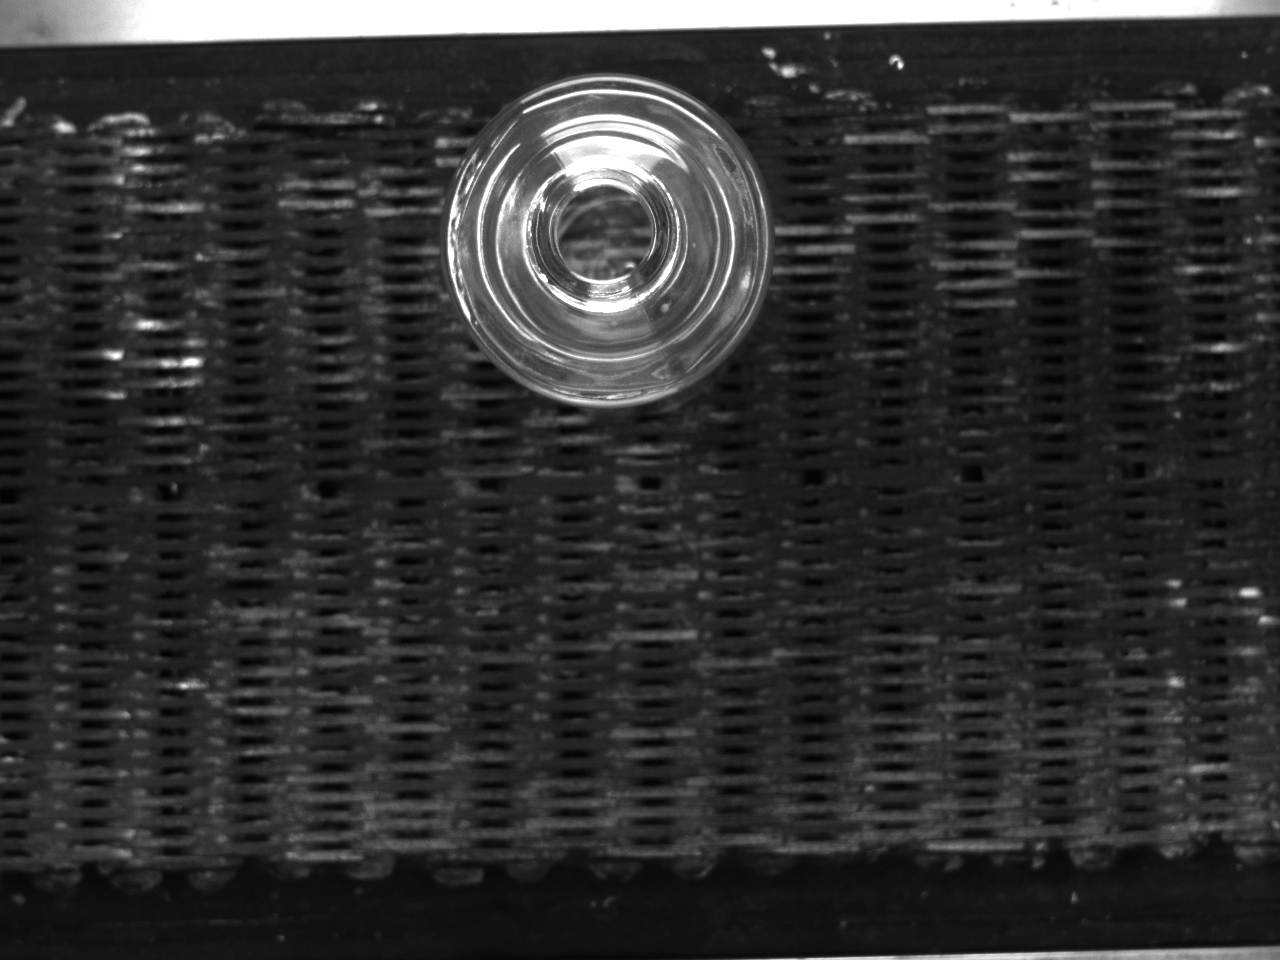bottleneck: (526, 157, 683, 310)
